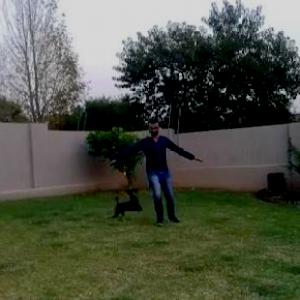land: (98, 120, 192, 231)
